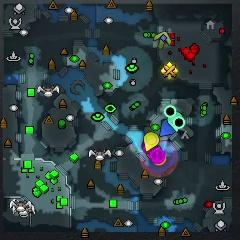Other: (161, 62, 178, 80), (150, 149, 165, 163)
p1: (159, 119, 176, 137)
p2: (167, 111, 183, 132)
p2Clone: (173, 117, 185, 129), (164, 106, 176, 116)
p3: (141, 140, 158, 153)
p4: (144, 132, 160, 151)
x2: (154, 31, 170, 49)
